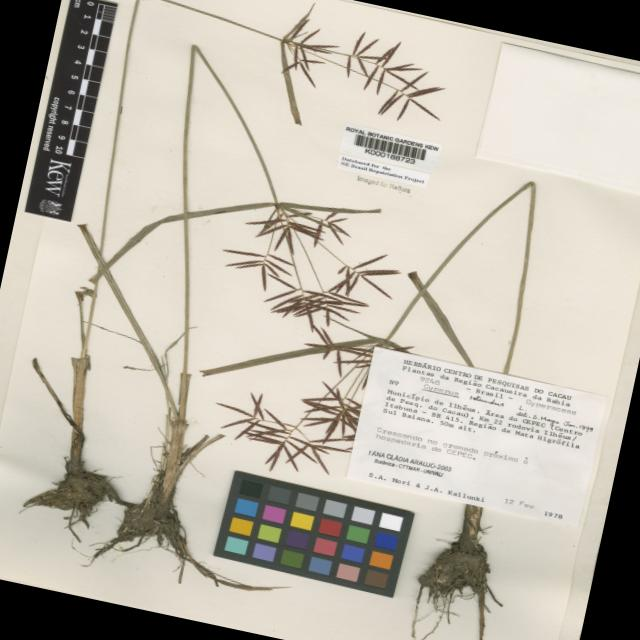cyperus: (216, 190, 407, 340), (263, 0, 460, 132), (216, 361, 374, 484)
